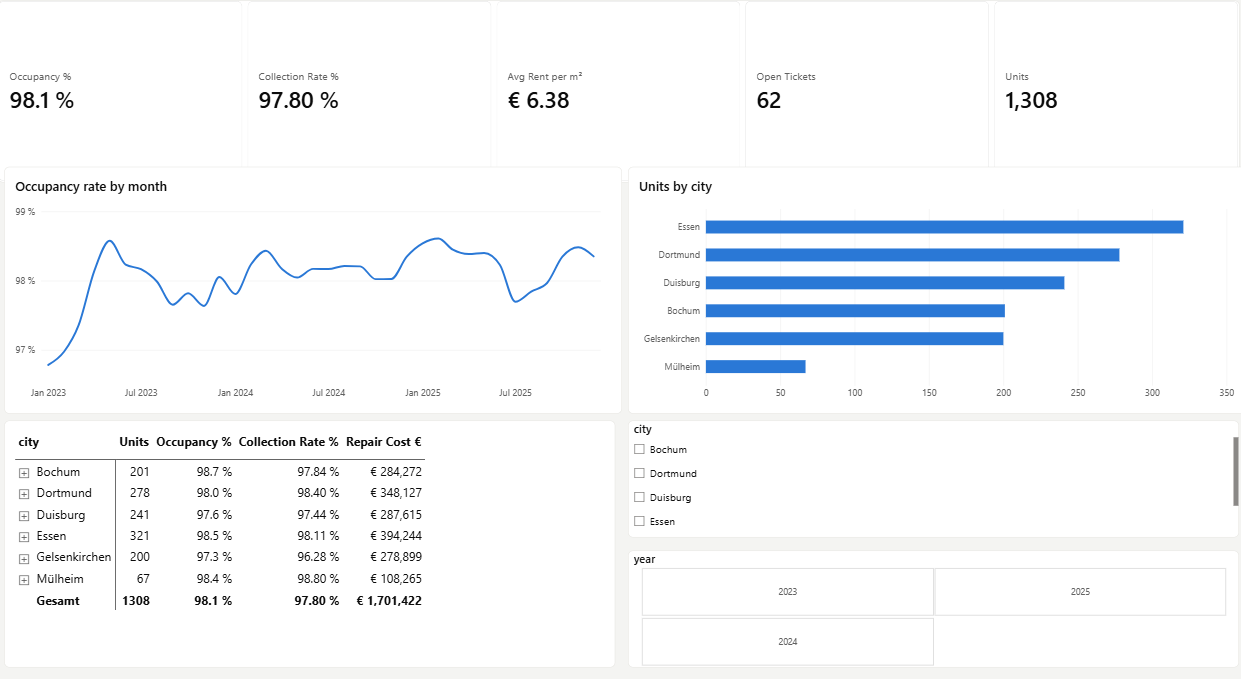

What the dashboard file says about the page in this screenshot:
{"tool":"powerbi","page":{"name":"page1_overview.png","canvas":[1920,1080],"ordinal":0},"visuals":[{"type":"cardVisual","fields":{"Data":["_Measures.Occupancy %","_Measures.Collection Rate %","_Measures.Avg Rent per m²","_Measures.Open Tickets","_Measures.Units (Card)"]},"box":[10.3,0,1910.1,279.9],"z":0},{"type":"lineChart","title":"Occupancy rate by month","fields":{"Category":["dim_date.year_month"],"Y":["_Measures.Occupancy %"]},"box":[10,290,950,380],"z":1000},{"type":"barChart","title":"Units by city","fields":{"Category":["dim_property.city"],"Y":["_Measures.Units"]},"box":[970,290,950,380],"z":2000},{"type":"pivotTable","fields":{"Rows":["dim_property.city","dim_property.district"],"Values":["_Measures.Units","_Measures.Occupancy %","_Measures.Collection Rate %","_Measures.Repair Cost €"]},"box":[10,680,940,380],"z":3000},{"type":"slicer","fields":{"Values":["dim_property.city"]},"box":[970,680,940,180],"z":4000},{"type":"slicer","fields":{"Values":["dim_date.year"]},"box":[970,880,940,180],"z":5000}]}

Visuals, with their boxes in screenshot pixels (x1, y1, x2, y2), scaled from the page's 1920x1080 canvas onto the 1241x679 screenshot:
cardVisual - _Measures.Occupancy % x _Measures.Collection Rate %: [7,0,1240,176]
"Occupancy rate by month" lineChart: [6,182,620,421]
"Units by city" barChart: [627,182,1240,421]
pivotTable - dim_property.city x dim_property.district: [6,428,614,666]
slicer - dim_property.city: [627,428,1235,541]
slicer - dim_date.year: [627,553,1235,666]
